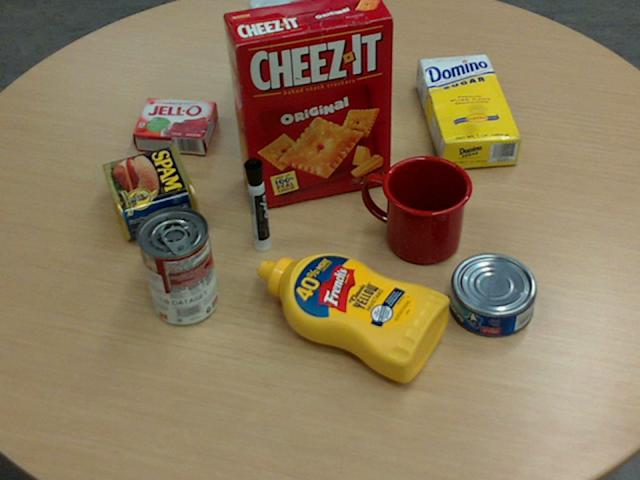cracker_box: (223, 0, 393, 208)
gelatin_box: (130, 96, 217, 154)
large_marker: (243, 158, 271, 252)
master_chef_can: (248, 0, 336, 126)
mug: (363, 154, 472, 263)
mustard_bottle: (256, 253, 449, 381)
potted_meat_can: (103, 141, 201, 239)
sugar_box: (416, 53, 522, 170)
tomato_soup_can: (134, 205, 217, 324)
tuna_fish_can: (449, 253, 537, 336)
